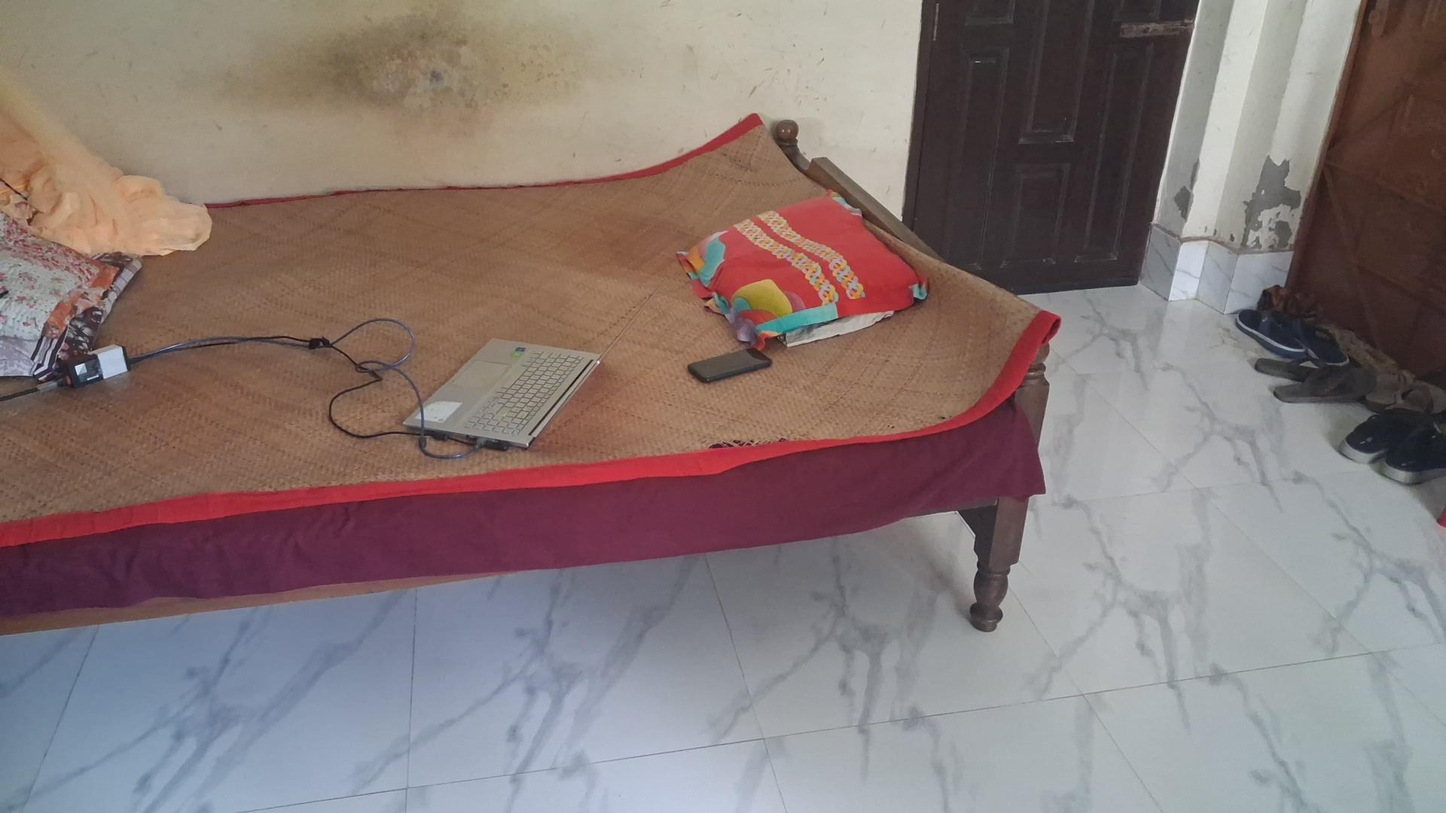Footwear: (1342, 406, 1440, 483), (1237, 302, 1346, 365), (1257, 355, 1359, 403)
Laptop: (399, 296, 662, 450)
Phone: (687, 348, 772, 383)
Pillow: (688, 185, 930, 349)
